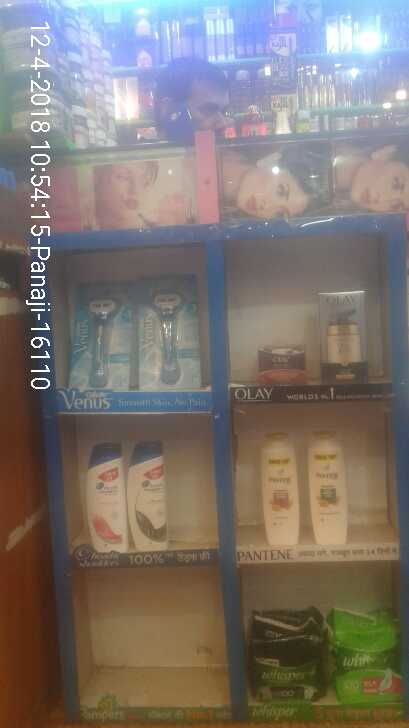venus: (139, 272, 202, 389), (69, 279, 134, 390)
